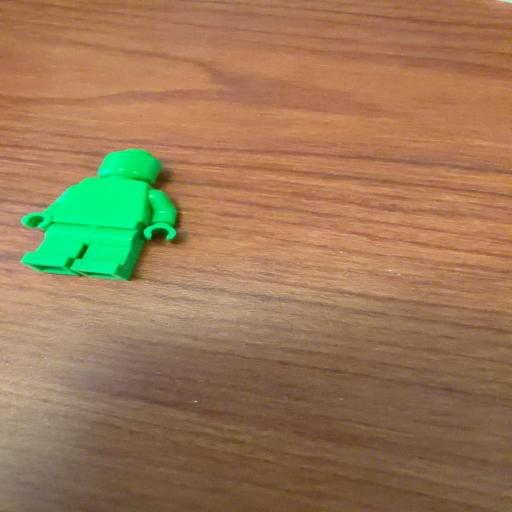UnoQ-minifig-detector: (20, 149, 177, 280)
